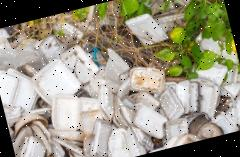general: (0, 61, 42, 116), (124, 8, 170, 48)
